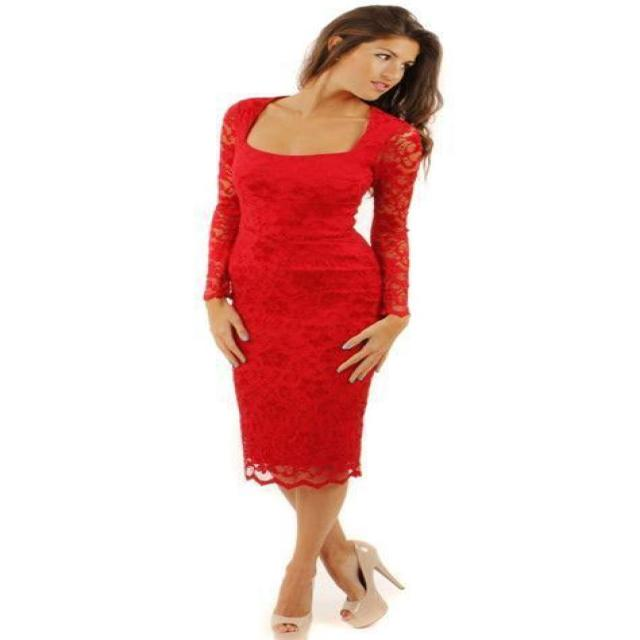dress: (204, 96, 424, 486)
